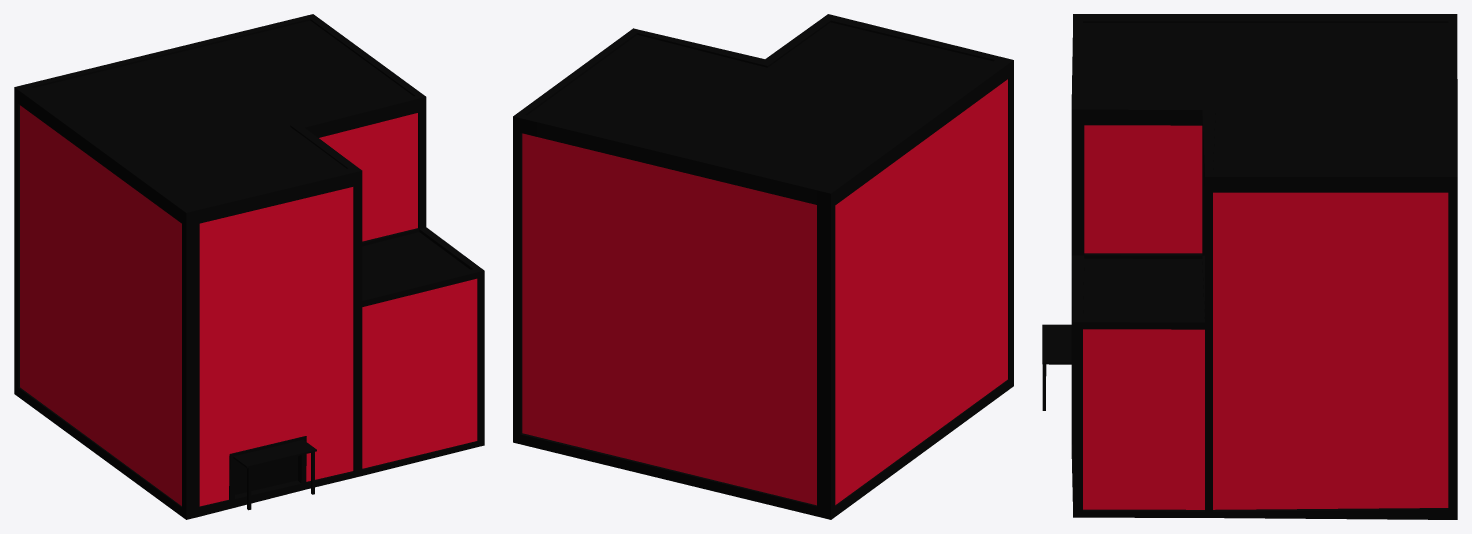
The picture shows the model from 3 angles, left to right: view 1: azimuth 30°, elevation 25°; view 2: azimuth 150°, elevation 25°; view 3: azimuth 270°, elevation 25°; orthographic projection. The views are drawn at different scales.
Visible parts, largest first — view 1: Building2; view 2: Building2; view 3: Building2.
Boxes of the visible parts, <box> form: Building2: <box>14,14,484,519</box>; Building2: <box>513,14,1013,519</box>; Building2: <box>1042,14,1457,519</box>.
Size of the model in its own units: 4510 by 4423 by 4857.
